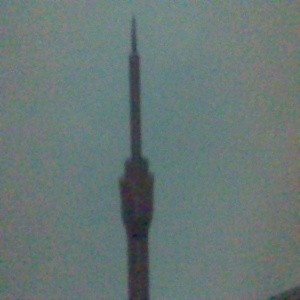solder: (117, 15, 154, 300)
